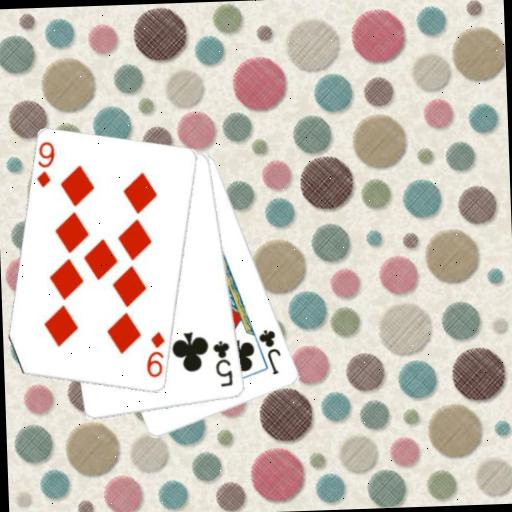5C: (209, 338, 234, 389)
9D: (142, 328, 167, 379), (32, 138, 57, 189)
JC: (255, 326, 283, 377)
